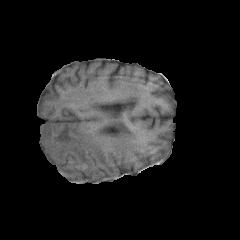glioma: (40, 96, 139, 175)
